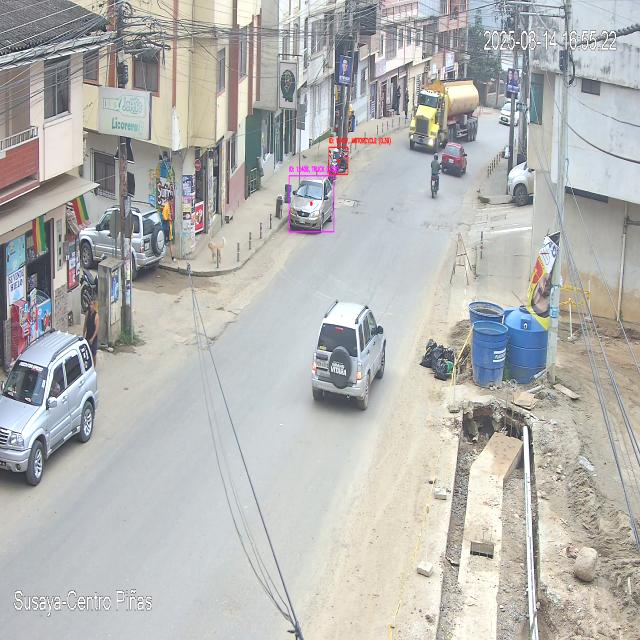SUV: (312, 300, 388, 412)
TRUCK: (409, 80, 478, 154)
